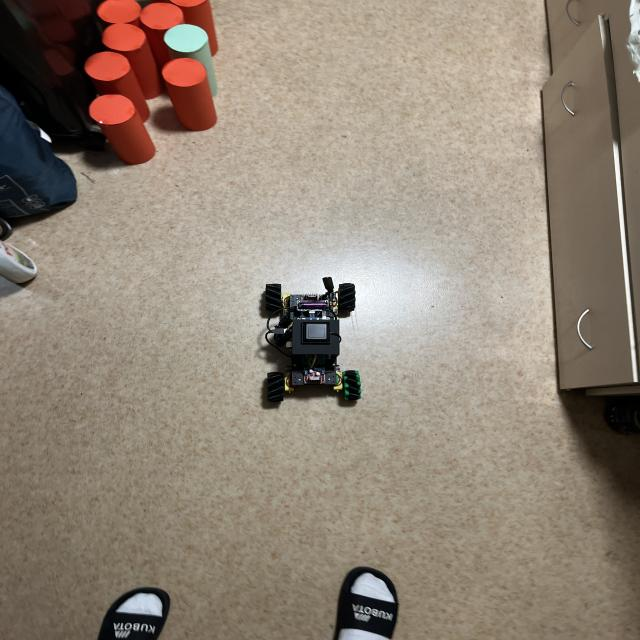robot: (265, 277, 361, 402)
